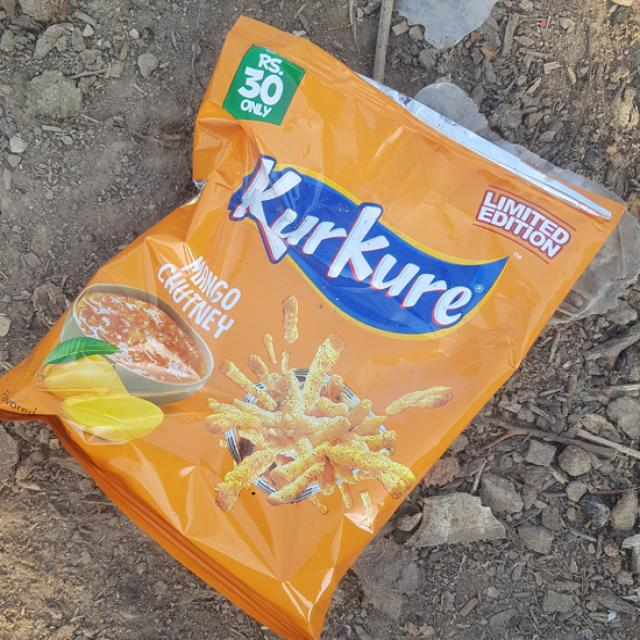electronic: (1, 14, 637, 638)
